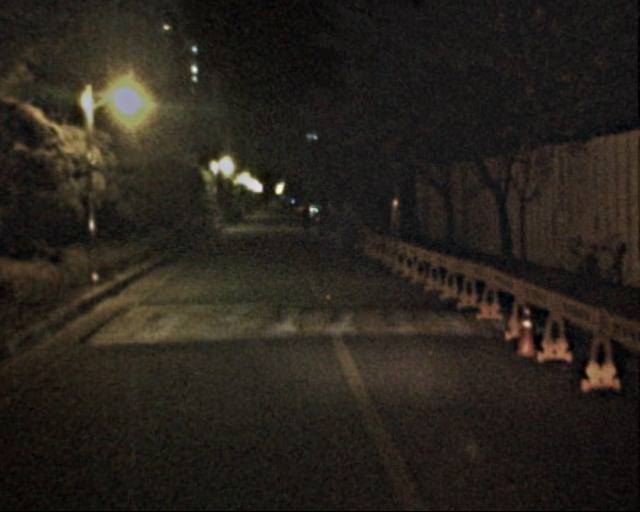person: (339, 197, 360, 248), (322, 203, 343, 254), (298, 202, 314, 240), (312, 202, 327, 239)
